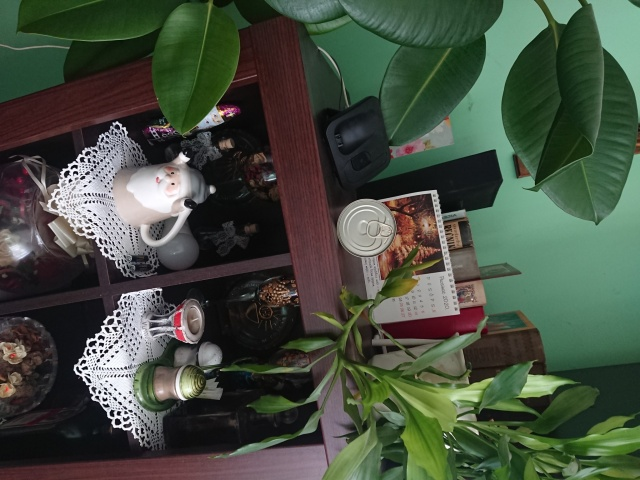Gavrilovic Pork Liver Pate 100g: (334, 195, 398, 261)
